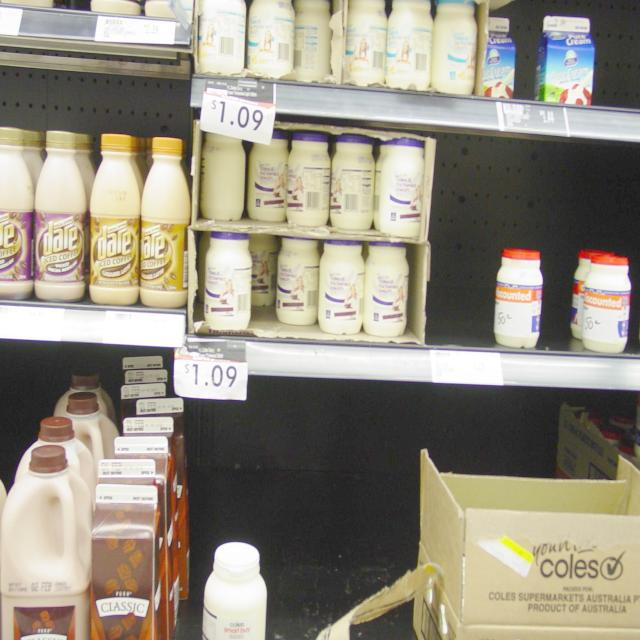empty_space: (200, 429, 398, 531), (441, 155, 487, 333), (545, 171, 573, 329), (599, 22, 640, 112)
